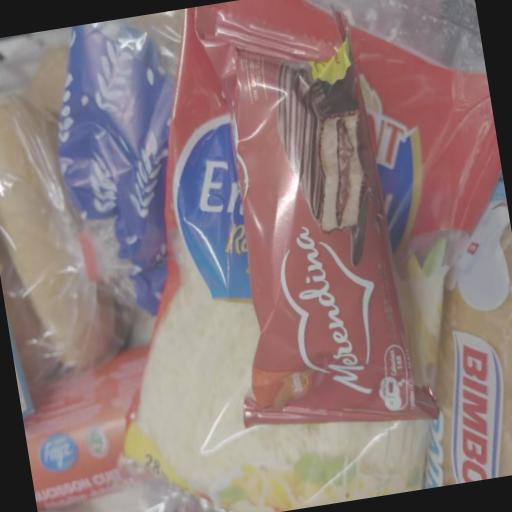merendina: (189, 0, 452, 448)
